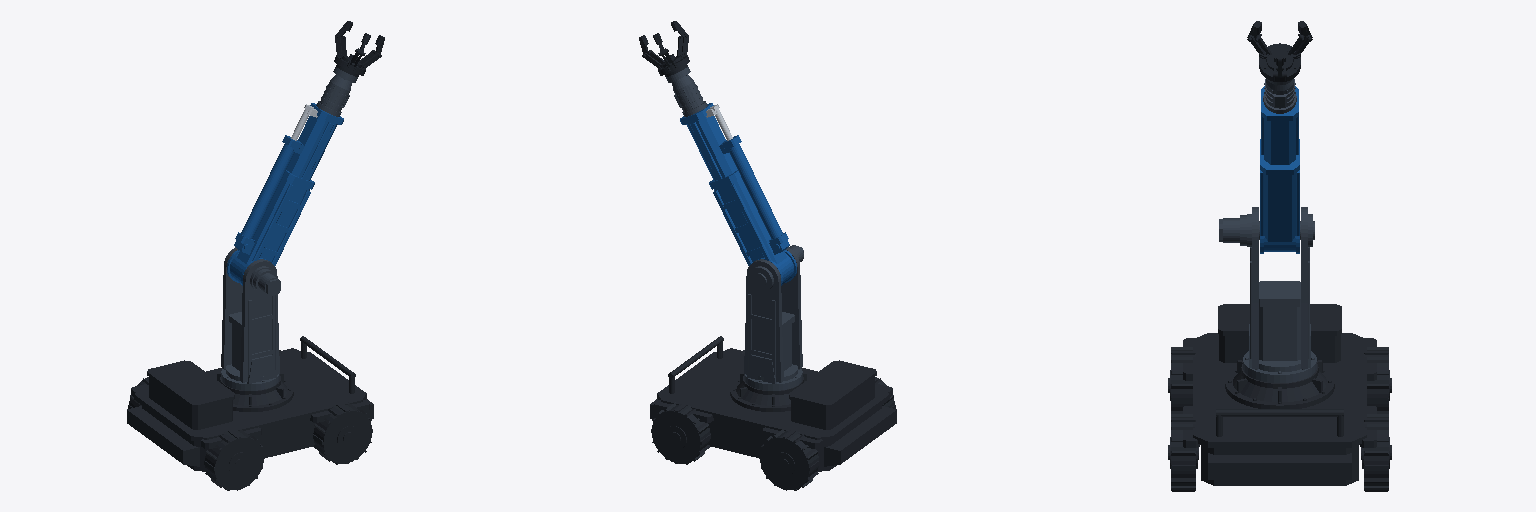
The robot description file, URDF, robot "manipulator_arm":
<?xml version='1.0' encoding='utf-8'?>
<robot name="manipulator_arm">
  <link name="base_link">
    <inertial>
      <origin xyz="0 0 -0.07000000000000001" rpy="0 0 0" />
      <mass value="25" />
      <inertia ixx="0.6" ixy="0" ixz="0" iyy="0.9" iyz="0" izz="1.1" />
    </inertial>
    <visual>
      <origin xyz="0 0 0" rpy="0 0 0" />
      <geometry>
        <mesh filename="../meshes/base_mobile.stl" />
      </geometry>
      <material name="dark_chassis">
        <color rgba="0.18 0.2 0.23 1" />
      </material>
    </visual>
  </link>
  <link name="link_1">
    <inertial>
      <origin xyz="0 0 -0.2" rpy="0 0 0" />
      <mass value="8" />
      <inertia ixx="0.12" ixy="0" ixz="0" iyy="0.12" iyz="0" izz="0.04" />
    </inertial>
    <visual>
      <origin xyz="0 0 0" rpy="0 0 0" />
      <geometry>
        <mesh filename="../meshes/link_1.stl" />
      </geometry>
      <material name="anodized_slate">
        <color rgba="0.26 0.3 0.35 1" />
      </material>
    </visual>
  </link>
  <link name="link_2">
    <inertial>
      <origin xyz="0 0 0.175" rpy="0 0 0" />
      <mass value="6" />
      <inertia ixx="0.08" ixy="0" ixz="0" iyy="0.08" iyz="0" izz="0.02" />
    </inertial>
    <visual>
      <origin xyz="0 0 0" rpy="0 0 0" />
      <geometry>
        <mesh filename="../meshes/link_2.stl" />
      </geometry>
      <material name="petro_blue">
        <color rgba="0.14 0.38 0.62 1" />
      </material>
    </visual>
  </link>
  <link name="link_3">
    <inertial>
      <origin xyz="0 0 -0.125" rpy="0 0 0" />
      <mass value="4" />
      <inertia ixx="0.03" ixy="0" ixz="0" iyy="0.03" iyz="0" izz="0.01" />
    </inertial>
    <visual>
      <origin xyz="0 0 0" rpy="0 0 0" />
      <geometry>
        <mesh filename="../meshes/link_3.stl" />
      </geometry>
      <material name="machined_steel">
        <color rgba="0.76 0.79 0.83 1" />
      </material>
    </visual>
  </link>
  <link name="link_4">
    <inertial>
      <origin xyz="0 0 -0.075" rpy="0 0 0" />
      <mass value="2" />
      <inertia ixx="0.01" ixy="0" ixz="0" iyy="0.01" iyz="0" izz="0.005" />
    </inertial>
    <visual>
      <origin xyz="0 0 0" rpy="0 0 0" />
      <geometry>
        <mesh filename="../meshes/link_4.stl" />
      </geometry>
      <material name="anodized_slate">
        <color rgba="0.26 0.3 0.35 1" />
      </material>
    </visual>
  </link>
  <link name="ee_link">
    <inertial>
      <origin xyz="0 0 0.03" rpy="0 0 0" />
      <mass value="0.5" />
      <inertia ixx="0.001" ixy="0" ixz="0" iyy="0.001" iyz="0" izz="0.001" />
    </inertial>
    <visual>
      <origin xyz="0 0 0" rpy="0 0 0" />
      <geometry>
        <mesh filename="../meshes/ee_gripper.stl" />
      </geometry>
      <material name="gripper_dark">
        <color rgba="0.16 0.18 0.21 1" />
      </material>
    </visual>
  </link>
  <joint name="joint_1" type="revolute">
    <parent link="base_link" />
    <child link="link_1" />
    <origin xyz="0 0 0" rpy="0 0 0" />
    <axis xyz="0 0 1" />
    <limit lower="-3.141592653589793" upper="3.141592653589793" effort="200.0" velocity="2.0" />
  </joint>
  <joint name="joint_2" type="revolute">
    <parent link="link_1" />
    <child link="link_2" />
    <origin xyz="0 0 0.4" rpy="1.570796326794897 0.5235987755982987 0" />
    <axis xyz="0 0 1" />
    <limit lower="-2.356194490192345" upper="2.356194490192345" effort="200.0" velocity="2.0" />
  </joint>
  <joint name="joint_3" type="prismatic">
    <parent link="link_2" />
    <child link="link_3" />
    <origin xyz="0 0.6 0" rpy="-1.570796326794897 0 0" />
    <axis xyz="0 0 1" />
    <limit lower="0" upper="0.25" effort="500.0" velocity="0.5" />
  </joint>
  <joint name="joint_4" type="revolute">
    <parent link="link_3" />
    <child link="link_4" />
    <origin xyz="0 0 0" rpy="0 0 0" />
    <axis xyz="0 0 1" />
    <limit lower="-3.141592653589793" upper="3.141592653589793" effort="200.0" velocity="2.0" />
  </joint>
  <joint name="ee_fixed_joint" type="fixed">
    <parent link="link_4" />
    <child link="ee_link" />
    <origin xyz="0 0 0.15" rpy="0 0 0" />
  </joint>
</robot>

--- Facts derived from the render (not from the file) ---
Views: 3 orthographic renders of the robot side by side, from view 1: azimuth 30°, elevation 25°; view 2: azimuth 150°, elevation 25°; view 3: azimuth 270°, elevation 25°.
Model manipulator_arm with 6 links and 5 joints (3 revolute, 1 prismatic, 1 fixed), rooted at base_link, posed all joints at 0.
Visible links, largest first — view 1: base_link, link_2, link_1, ee_link, link_4; view 2: base_link, link_2, link_1, ee_link, link_4; view 3: base_link, link_1, link_2, ee_link, link_4.
Boxes of the visible links, x1,y1,x2,y2 form: base_link: [127, 336, 373, 490]; link_2: [227, 103, 343, 285]; link_1: [221, 247, 280, 390]; ee_link: [334, 21, 384, 76]; link_4: [316, 67, 357, 116]; base_link: [650, 336, 896, 490]; link_2: [680, 103, 796, 285]; link_1: [744, 245, 803, 390]; ee_link: [639, 21, 689, 76]; link_4: [666, 67, 707, 116]; base_link: [1168, 304, 1391, 491]; link_1: [1219, 207, 1316, 382]; link_2: [1260, 86, 1299, 253]; ee_link: [1247, 21, 1312, 81]; link_4: [1263, 79, 1296, 113].
Size in the robot's own frame: 0.8877 by 0.59 by 1.45 metres.
6 mesh visuals loaded from 6 distinct referenced files (6 binary STL).
